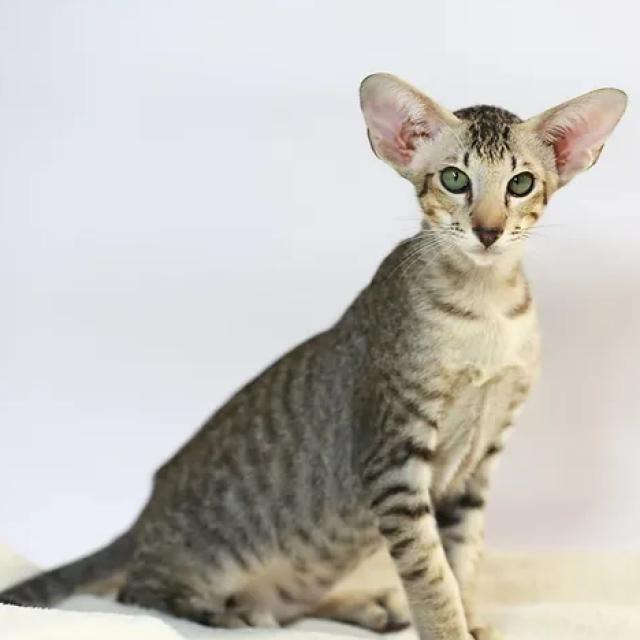Oriental: (0, 67, 632, 640)
